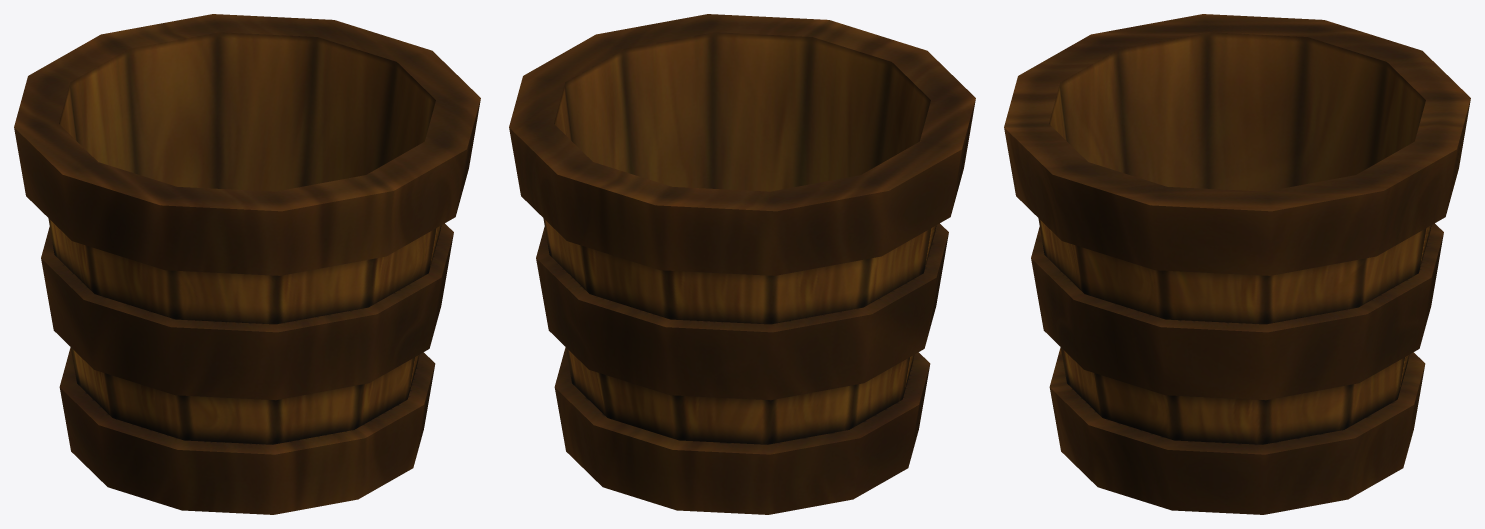
Rendered from woodentray.fbx.
3 renders of one model, left to right at view 1: azimuth 30°, elevation 25°; view 2: azimuth 150°, elevation 25°; view 3: azimuth 270°, elevation 25°, orthographic.
Visible parts, largest first — view 1: Group64783, Group1, Group58100; view 2: Group64783, Group1, Group58100; view 3: Group64783, Group1, Group58100.
Part boxes in pixels (x1,y1,x2,y2): Group64783: (14,14,480,514); Group1: (59,32,435,191); Group58100: (48,218,441,444); Group64783: (509,14,975,514); Group1: (554,32,930,191); Group58100: (543,218,936,444); Group64783: (1004,14,1470,514); Group1: (1049,32,1425,191); Group58100: (1038,218,1431,444).
Size of the model in its own units: 179 by 139 by 179.
Materials: 1 (1 with a texture image).
